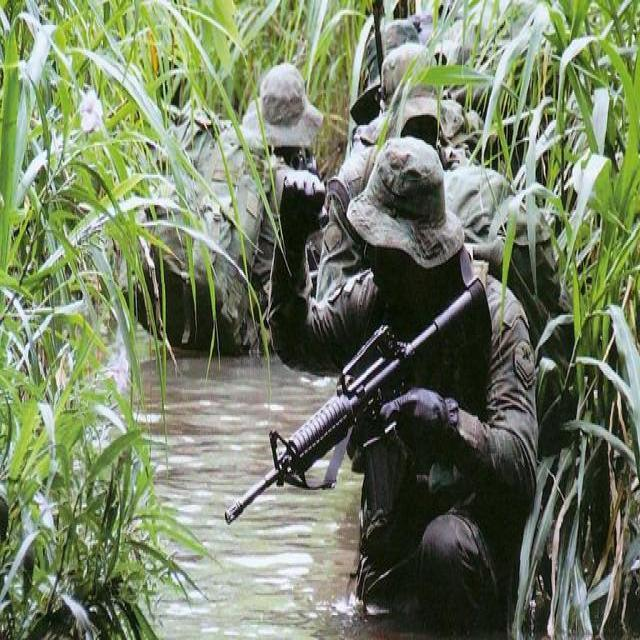m16: (197, 268, 550, 587)
